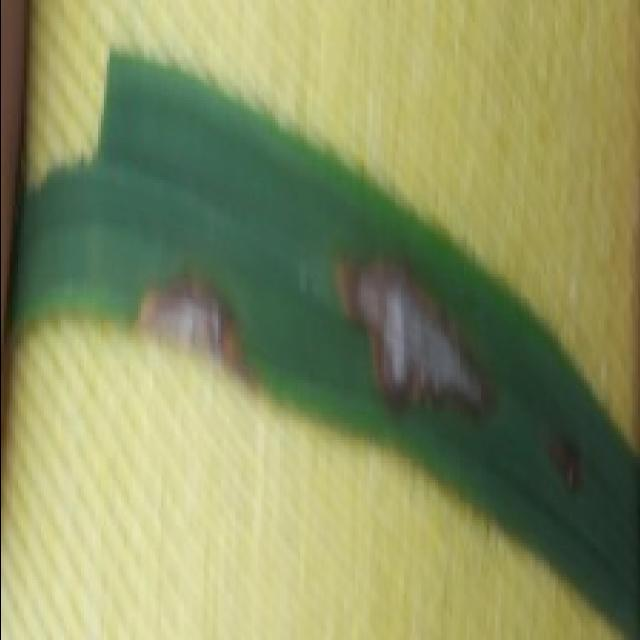Unhealthy: (320, 247, 516, 424), (137, 271, 262, 396), (547, 448, 585, 495)
